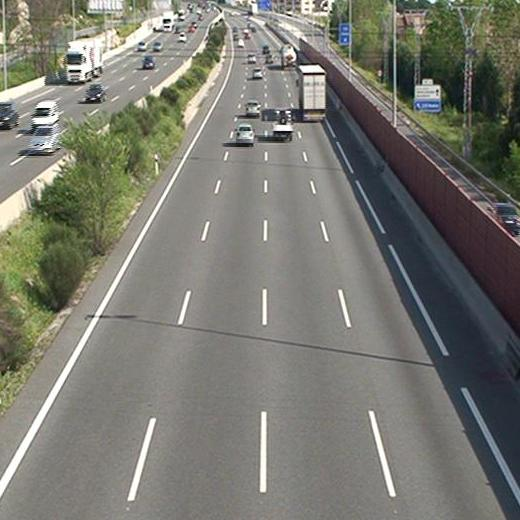car: (235, 123, 253, 144), (245, 100, 261, 116), (252, 67, 263, 79), (265, 53, 274, 63), (247, 53, 256, 63)
small-truck: (273, 110, 293, 140)
tank-truck: (282, 45, 296, 70)
truck: (298, 66, 326, 121)
